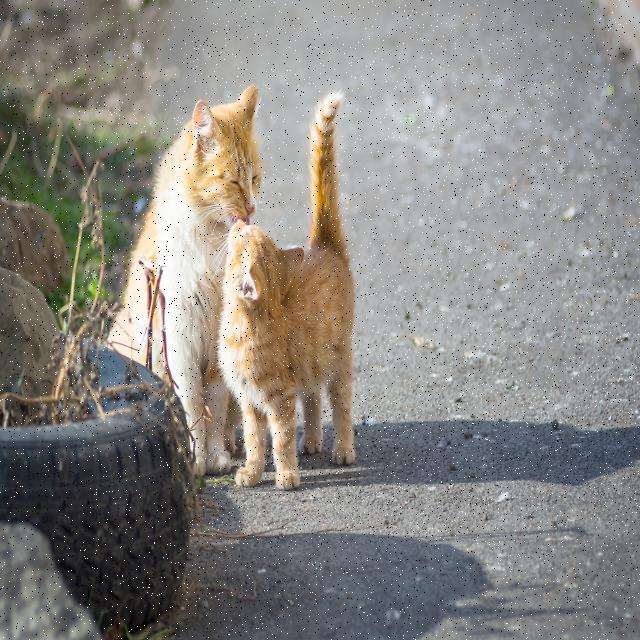cat: (109, 86, 262, 476), (219, 92, 355, 489)
